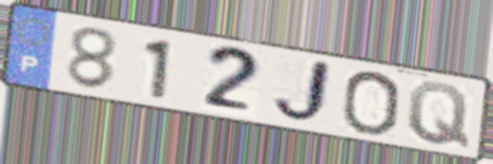1: (140, 38, 178, 101)
2: (199, 45, 266, 122)
8: (64, 25, 121, 92)
J: (269, 57, 335, 128)
O: (338, 70, 405, 137)
Q: (405, 80, 472, 152)
